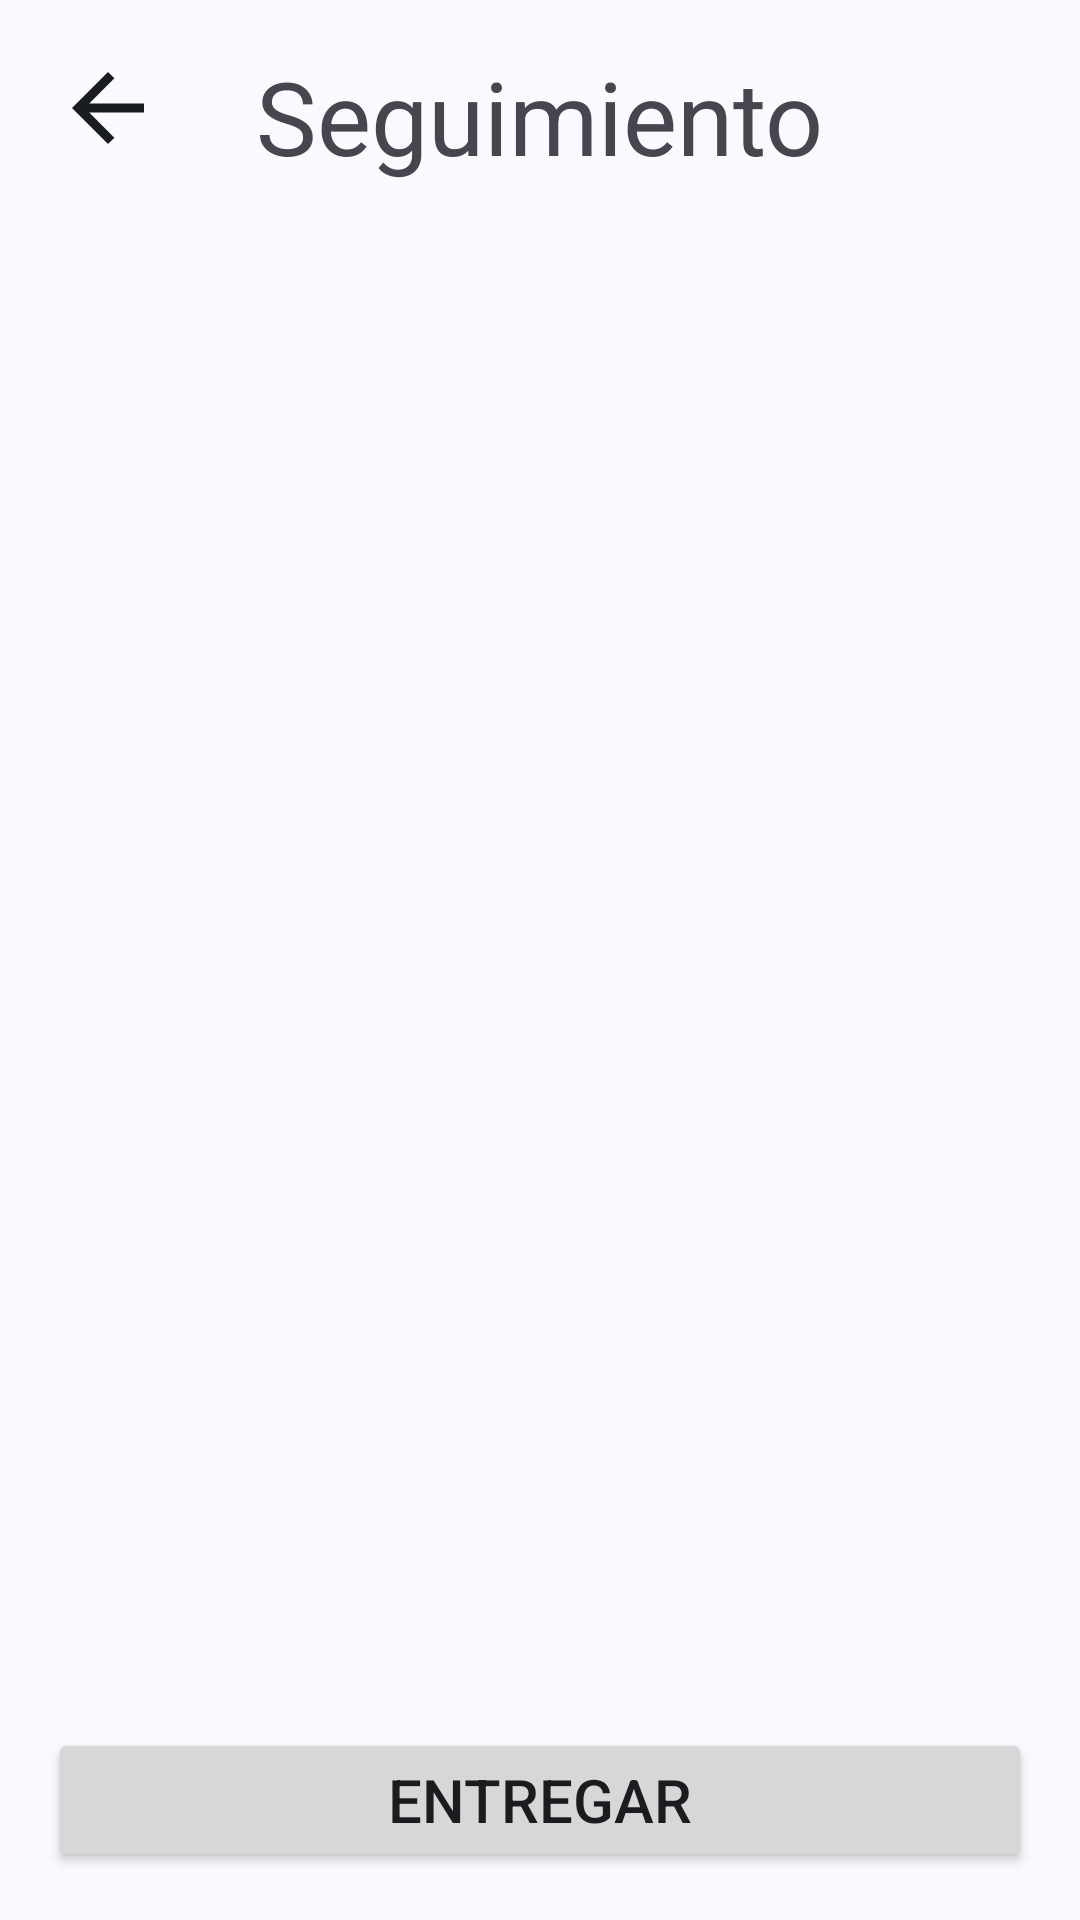

Icons on this 1080w x 1920h Android screen, each with the point to tap as point (x, y):
Atras: point (108, 108)
